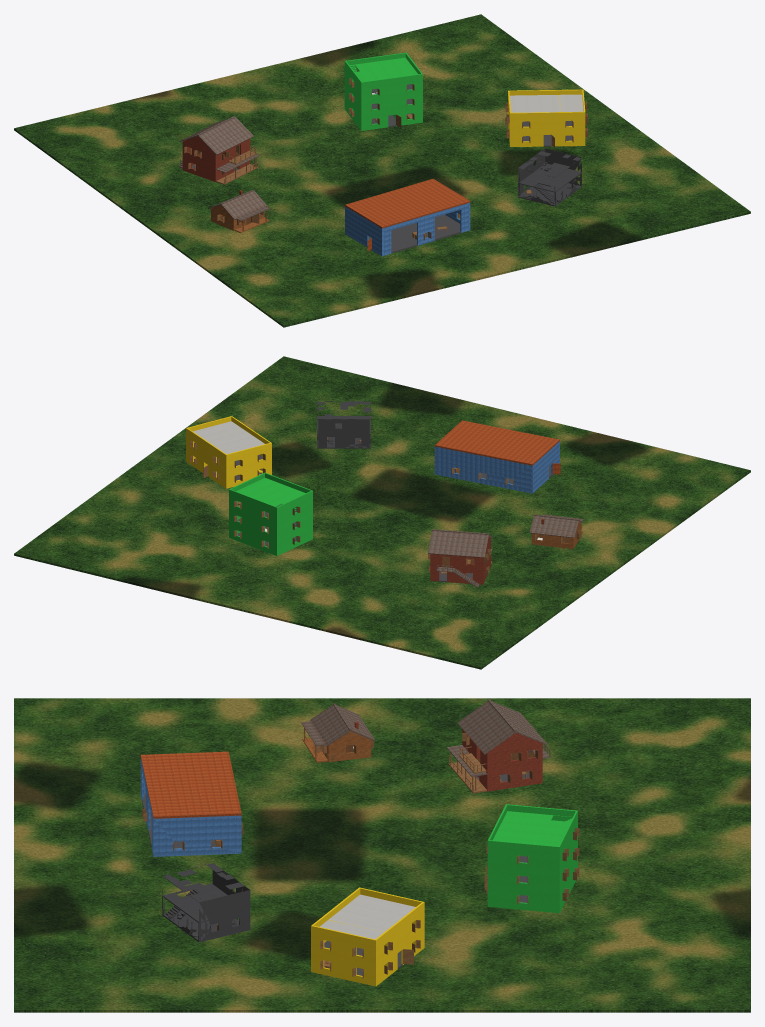
Rendered from scene_phase1.glb.
3 views of the same model, one above another, from view 1: azimuth 30°, elevation 25°; view 2: azimuth 150°, elevation 25°; view 3: azimuth 270°, elevation 25° (orthographic). The views are drawn at different scales.
Visible parts, largest first — view 1: Hero_Ground, WarehouseMetal, ApartmentGreen, SchoolYellow, HouseTactical, RuinedBuilding, CabinWood; view 2: Hero_Ground, WarehouseMetal, ApartmentGreen, SchoolYellow, HouseTactical, RuinedBuilding, CabinWood; view 3: Hero_Ground, WarehouseMetal, ApartmentGreen, SchoolYellow, HouseTactical, RuinedBuilding, CabinWood.
Boxes of the visible parts, box(x1,y1,x2,y2) form: Hero_Ground: box(14, 14, 750, 327); WarehouseMetal: box(345, 178, 470, 256); ApartmentGreen: box(344, 52, 422, 130); SchoolYellow: box(505, 89, 588, 148); HouseTactical: box(178, 116, 259, 184); RuinedBuilding: box(517, 148, 581, 206); CabinWood: box(208, 189, 270, 232); Hero_Ground: box(14, 356, 750, 669); WarehouseMetal: box(434, 420, 560, 493); ApartmentGreen: box(229, 472, 312, 555); SchoolYellow: box(186, 416, 271, 488); HouseTactical: box(428, 529, 493, 587); RuinedBuilding: box(316, 398, 375, 448); CabinWood: box(529, 514, 583, 548); Hero_Ground: box(14, 698, 750, 1012); WarehouseMetal: box(140, 751, 243, 856); ApartmentGreen: box(484, 804, 579, 913); SchoolYellow: box(311, 887, 424, 986); HouseTactical: box(446, 699, 550, 793); RuinedBuilding: box(162, 858, 250, 942); CabinWood: box(301, 703, 374, 762).
Size of the model in its own units: 100 by 10.3 by 100.
31 materials, 25 textured.
